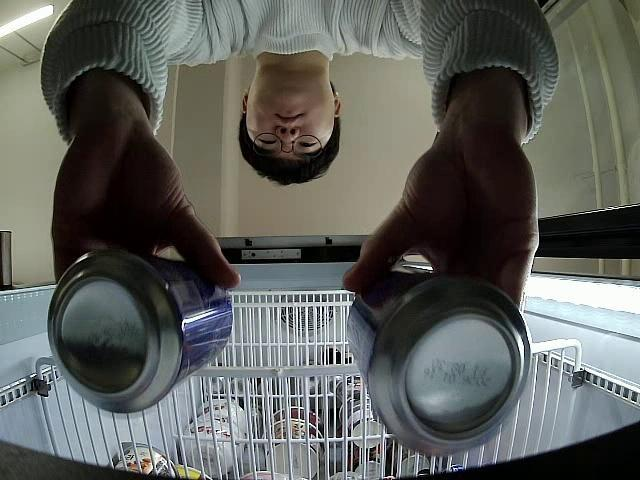14_welchsGrape: (346, 262, 530, 456), (49, 248, 234, 412)
